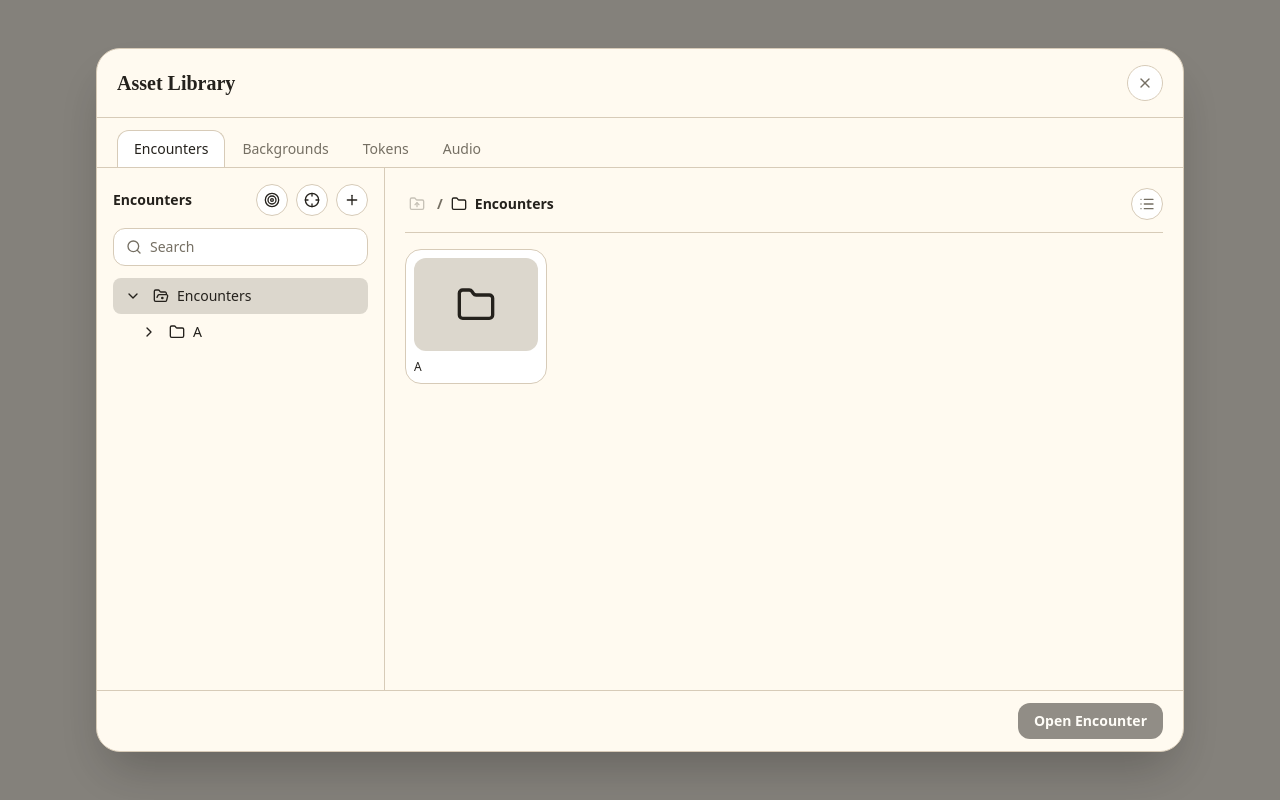
AssetLibraryModal active encounter locator › expands the active encounter path, navigates there, and scrolls to its card
Expected: the text "Active Encounter" is not shown
Click the button named "Locate active encounter".
click(272, 200)  # box [256,184,288,216]
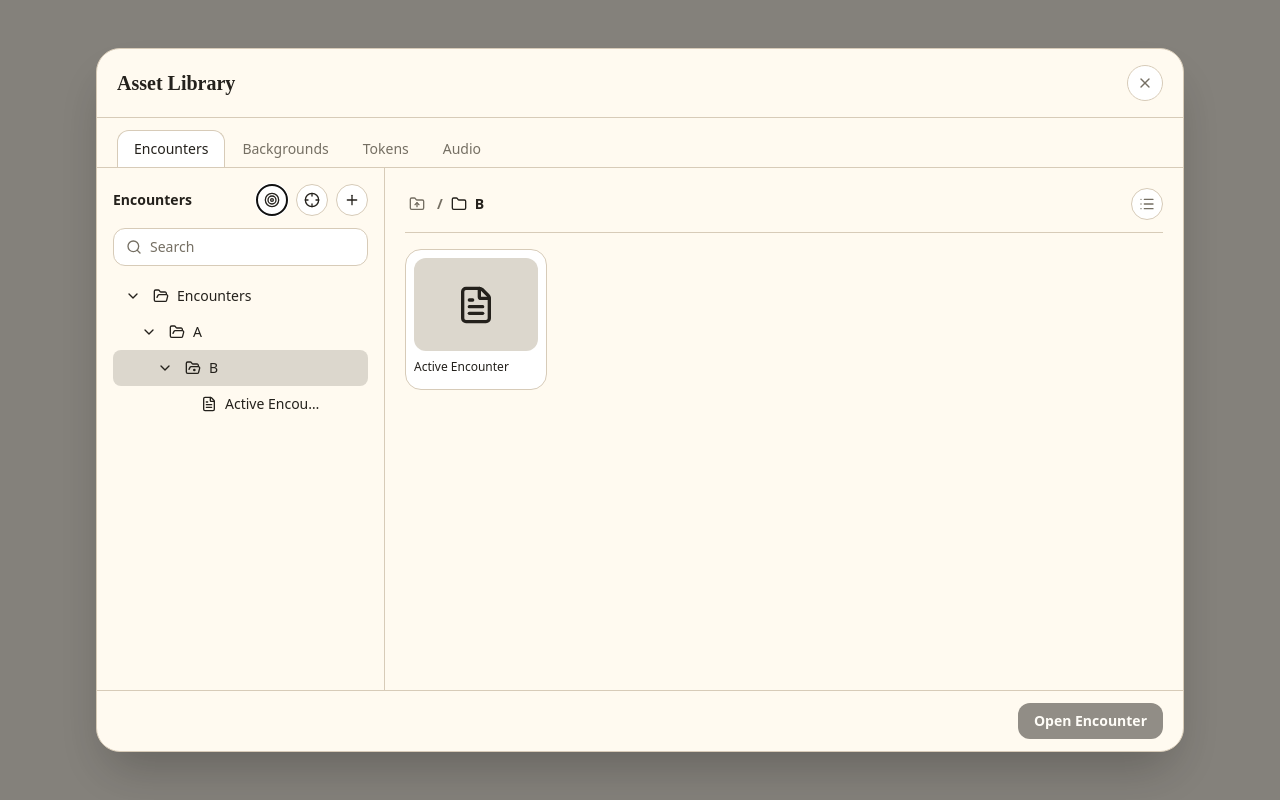
Expected: the element named "Current asset library folder" reads "B", [475,194,484,213]
Expected: the button named "Collapse A" is shown, [137,320,161,344]
Expected: the button named "Collapse B" is shown, [153,356,177,380]
Click the button "Active Encounter".
click(476, 316)  # box [414,258,538,375]
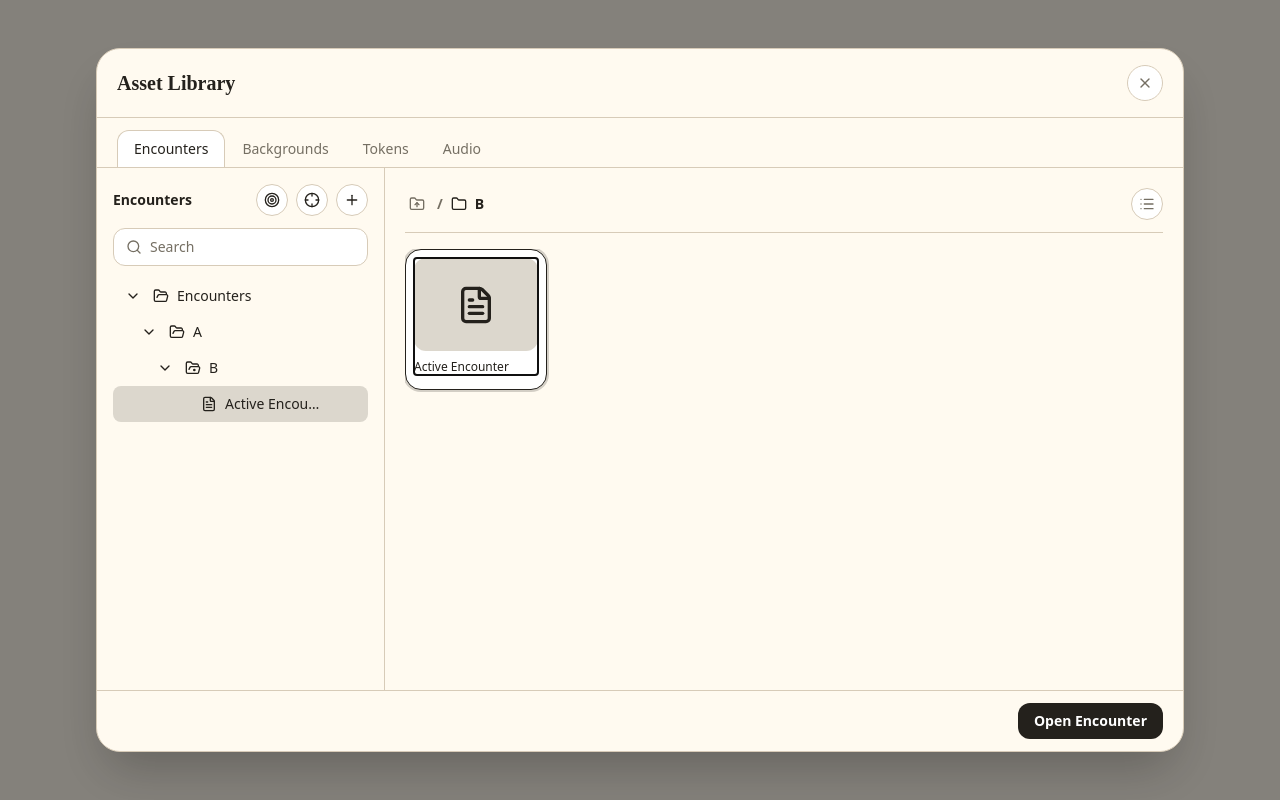
Expected: the button "Open Encounter" is enabled, [1018,703,1163,739]
Click the button named "Collapse A".
click(149, 332)  # box [137,320,161,344]
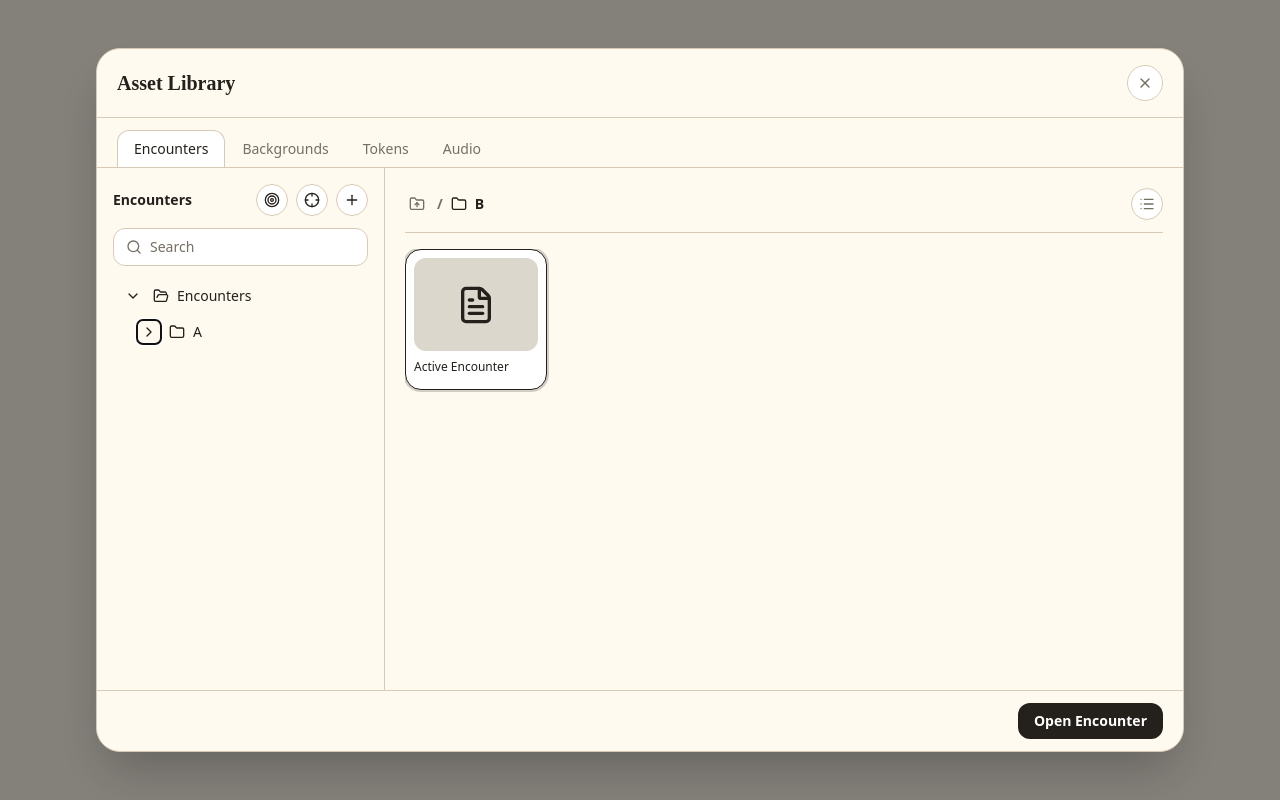
Click the button named "Locate current directory".
click(312, 200)  # box [296,184,328,216]
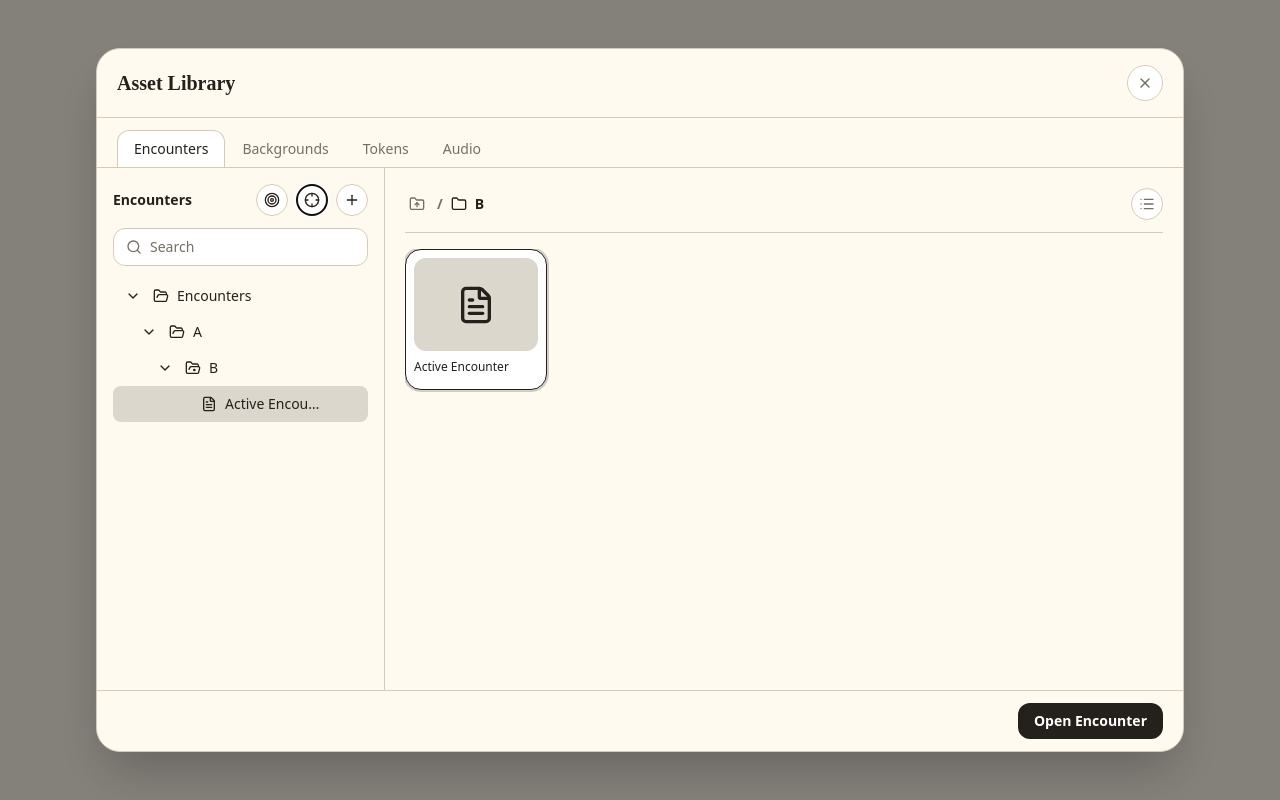
Expected: the button named "Collapse B" is shown, [153,356,177,380]
